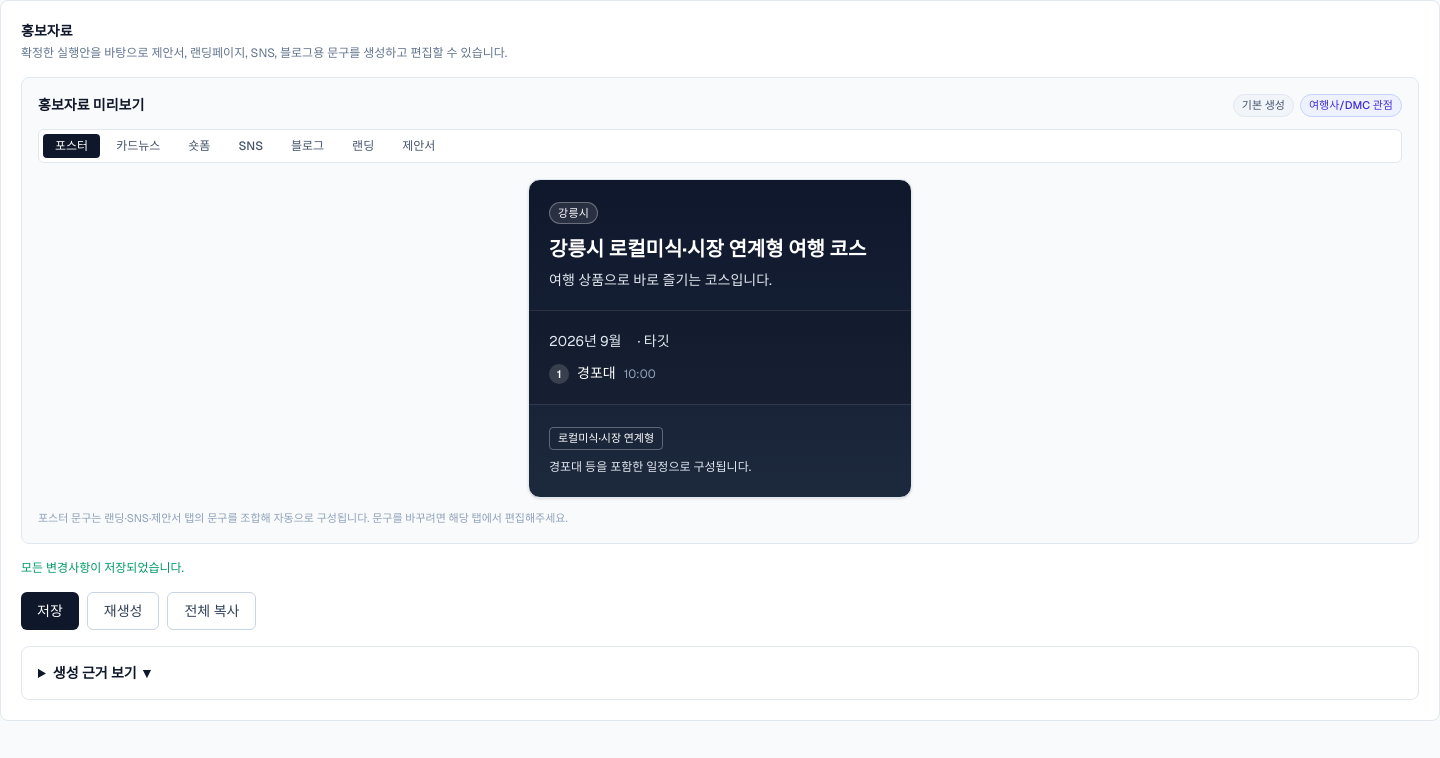
Scenario: 편집과 저장 › 역할별 discriminator가 보존된다(TRAVEL_AGENCY)
The width and height of the screenshot is (1440, 758).
Click the tab "제안서" at x=419, y=146, box 390,134 -> 447,158
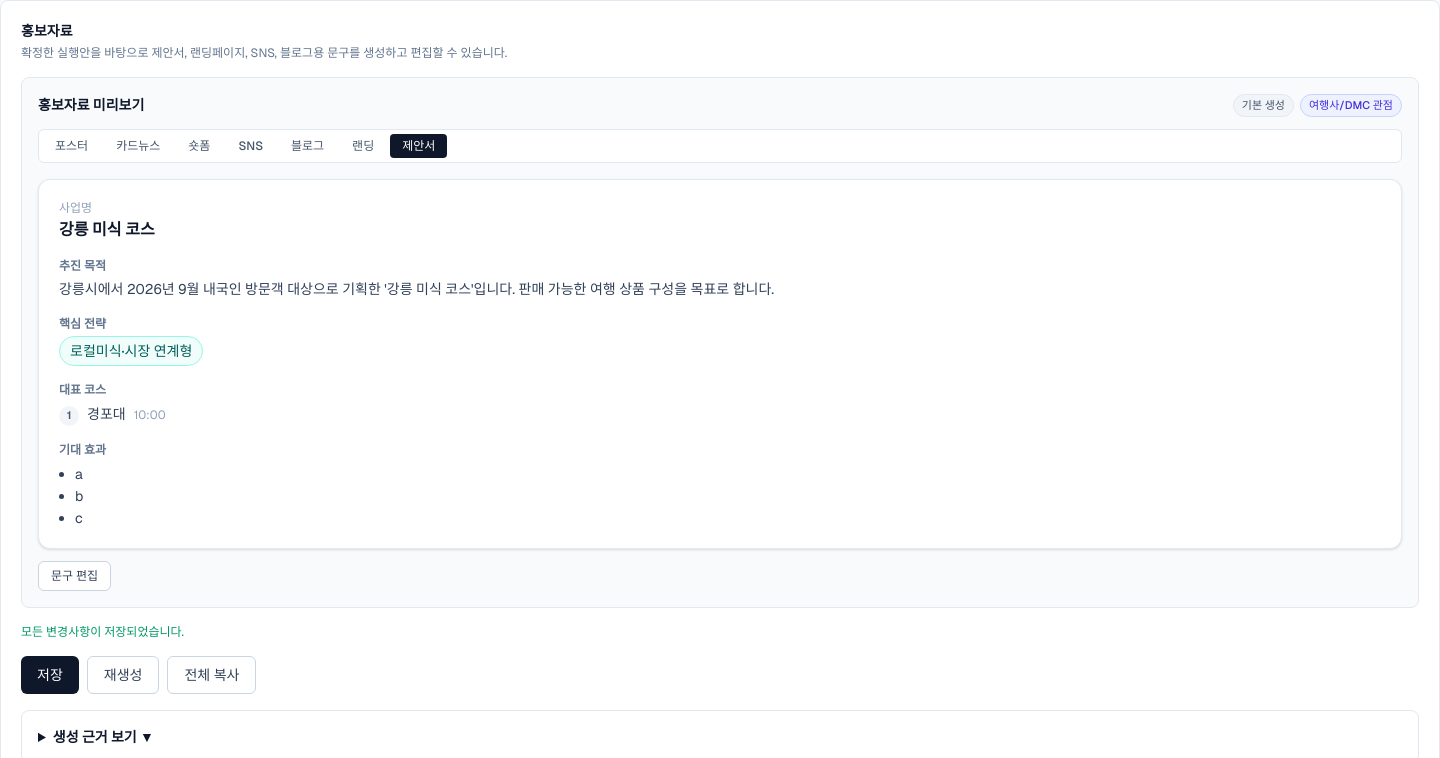
Click the button "문구 편집" at x=75, y=576, box 38,561 -> 111,591
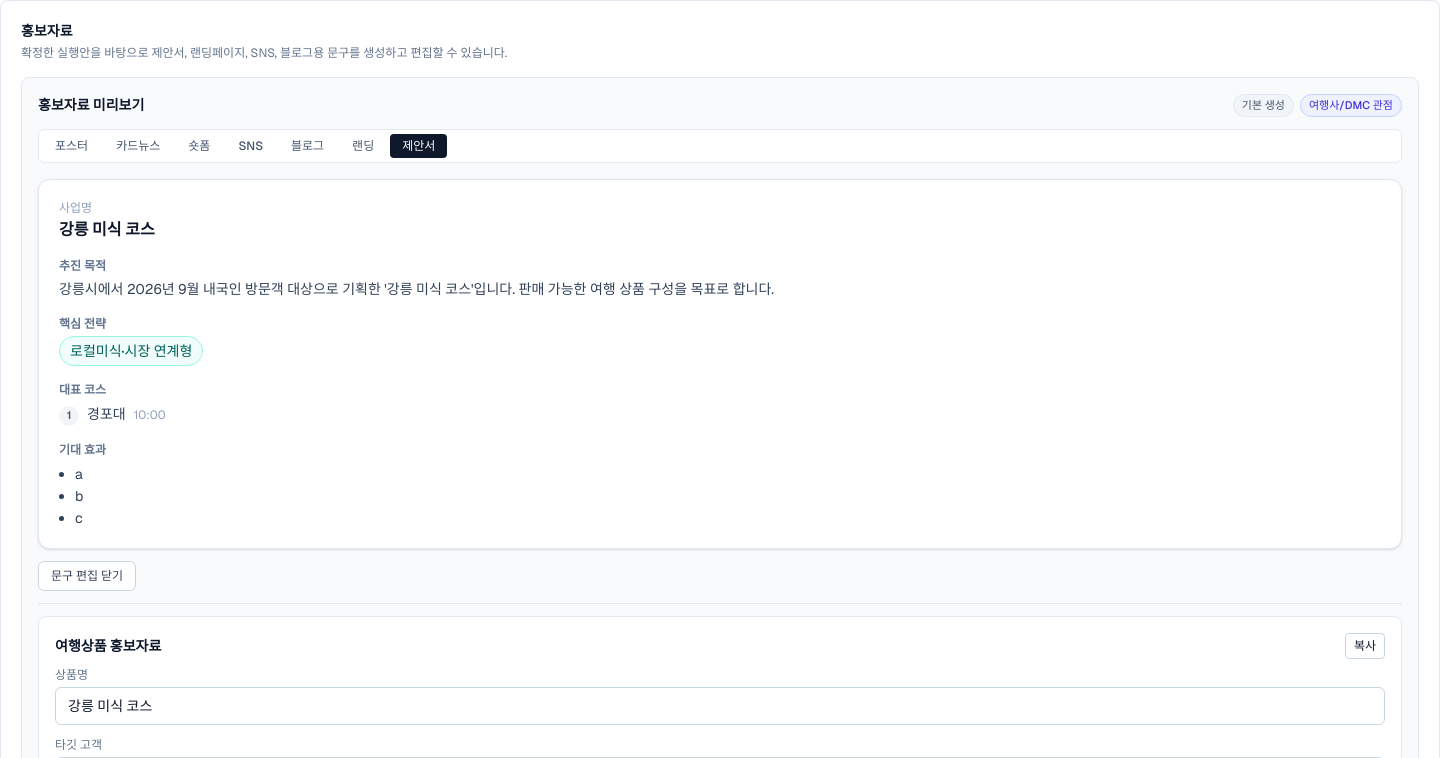
Expected: the heading "여행상품 홍보자료" is shown, 55,636 -> 161,656
